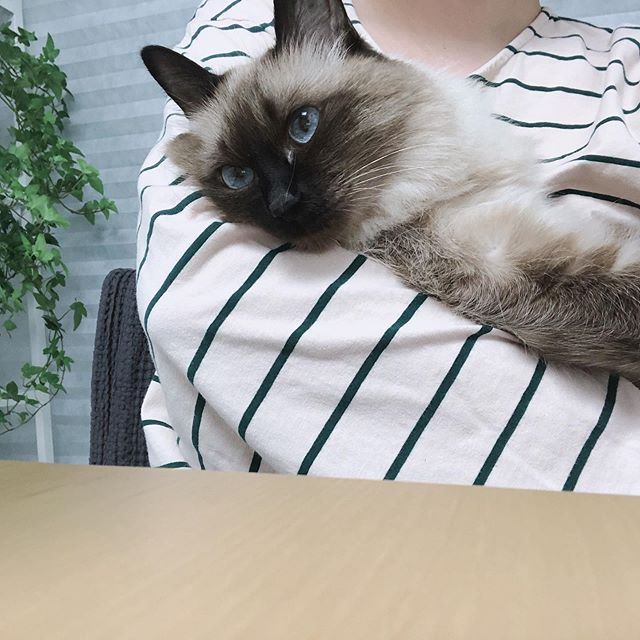cat: (135, 3, 399, 265)
